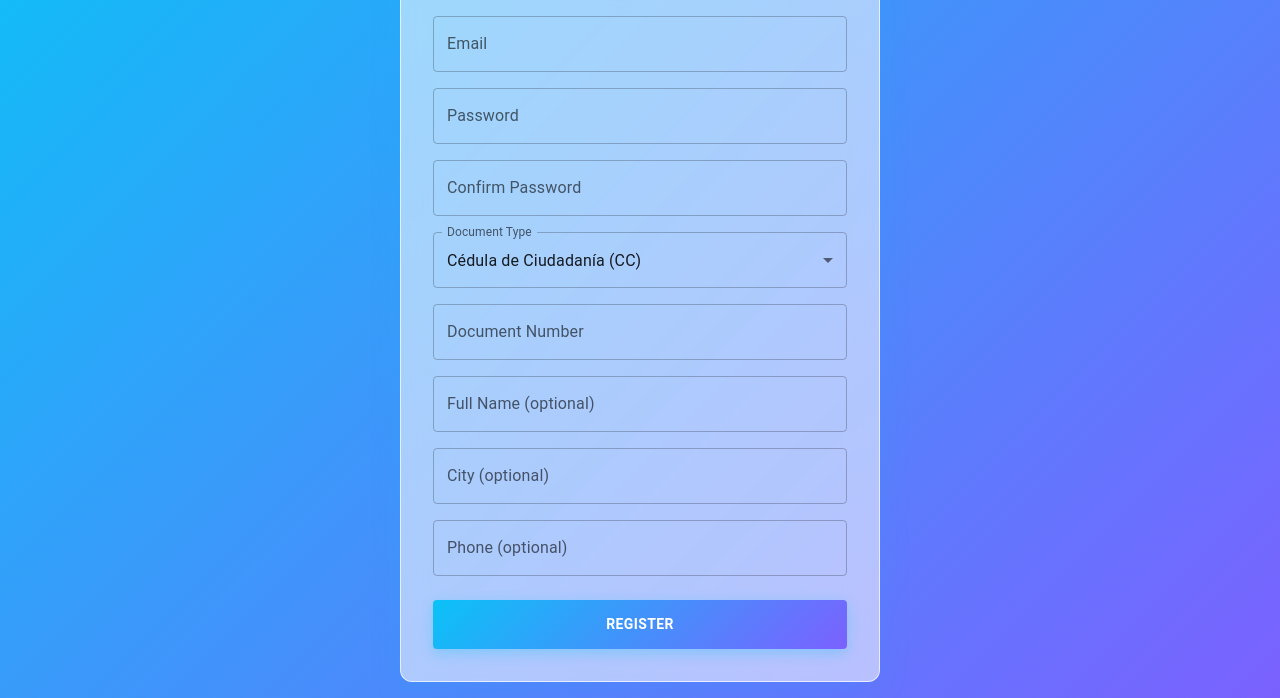
it: Register › shows required field errors when submitting empty form
(page scrolled)
Click the button with test id "register-submit": (640, 624) [433,600,847,648]
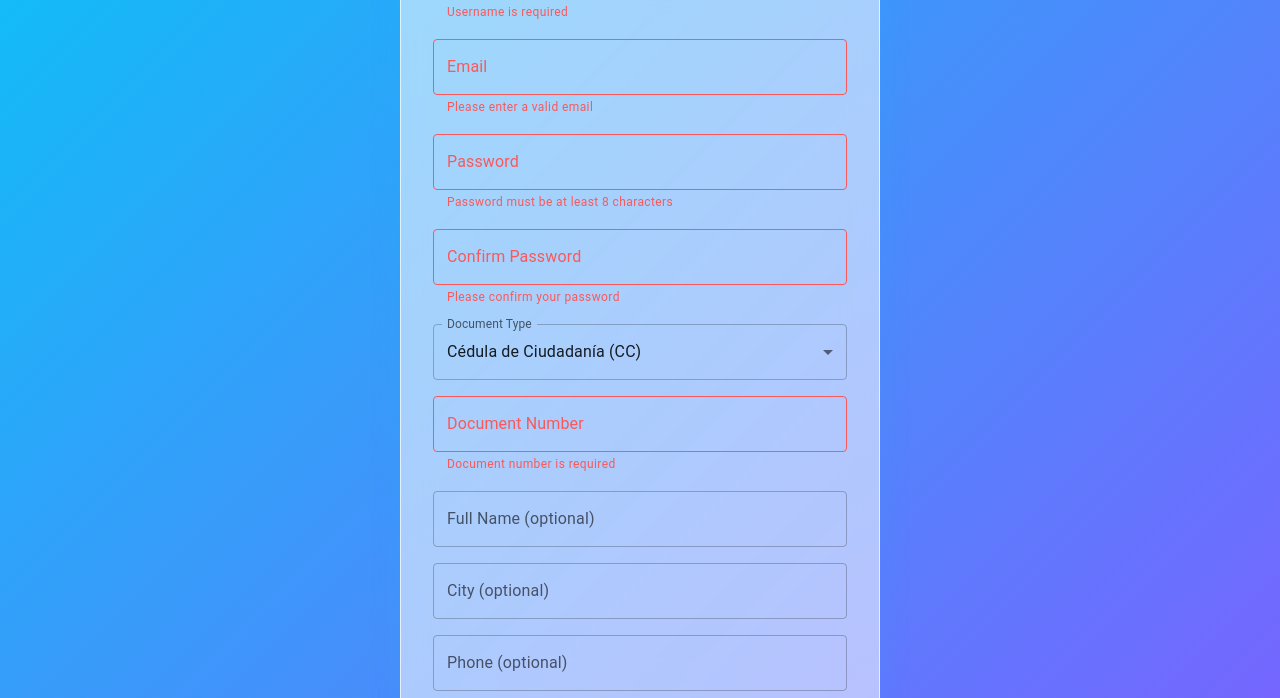
Check: the text with test id "register-username-error" reads "Username is required", box [447,5,568,19]
Check: the text with test id "register-email-error" reads "Please enter a valid email", box [447,100,593,114]
Check: the text with test id "register-password-error" reads "Password must be at least 8 characters", box [447,195,673,209]
